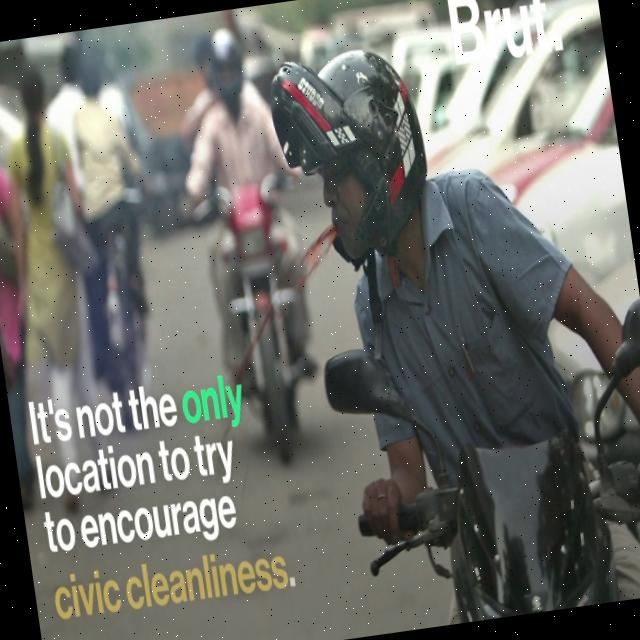spit: (213, 210, 365, 377)
